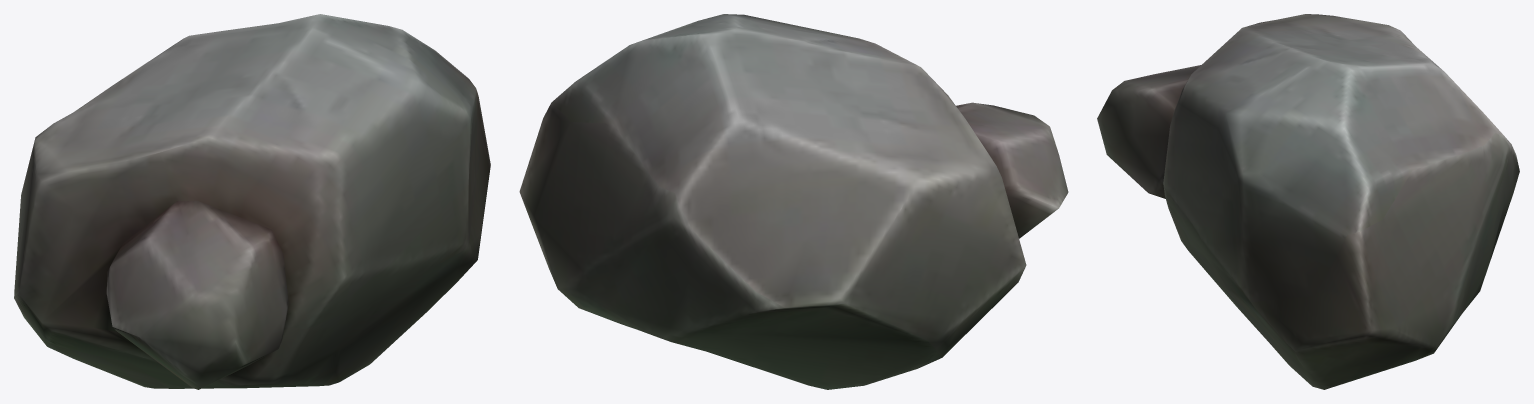
File: stone_small_1.glb
The picture shows the model from 3 angles, left to right: view 1: azimuth 30°, elevation 25°; view 2: azimuth 150°, elevation 25°; view 3: azimuth 270°, elevation 25°; orthographic projection. The views are drawn at different scales.
Visible parts, largest first — view 1: Small_1; view 2: Small_1; view 3: Small_1.
Part boxes in pixels (x1,y1,x2,y2): Small_1: (14, 14, 490, 389); Small_1: (519, 14, 1068, 389); Small_1: (1097, 14, 1519, 389).
Size of the model in its own units: 1.8 by 1.18 by 1.47.
1 material, 1 textured.
